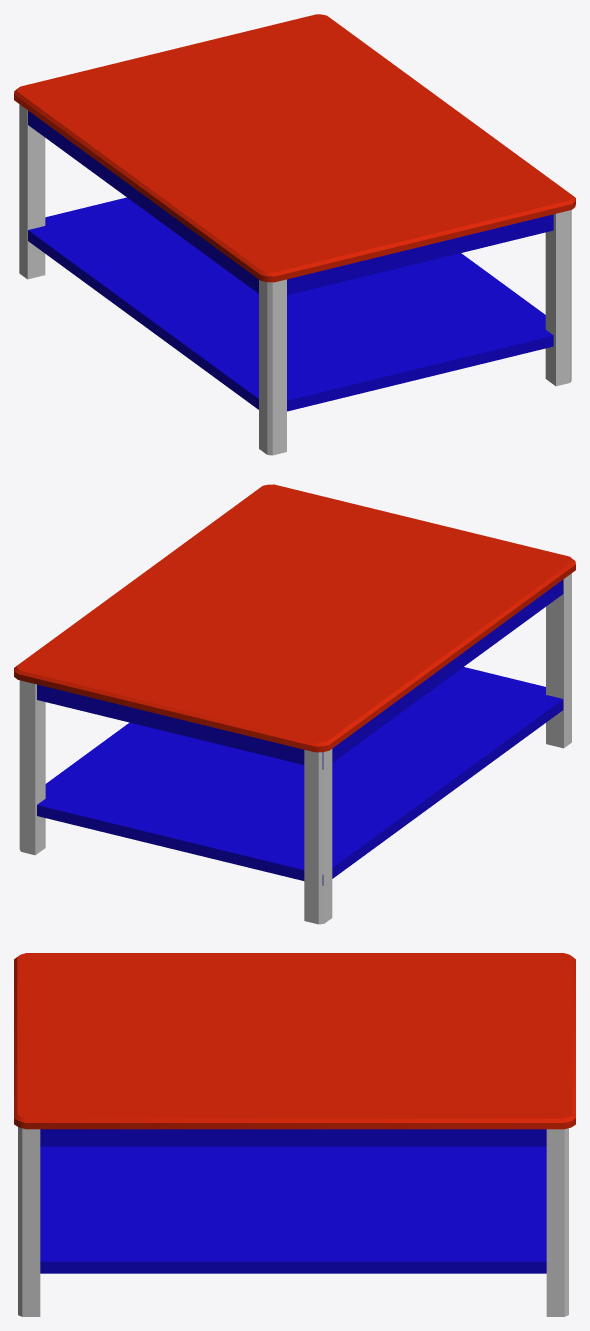
Rendered from Coffee table.fbx.
3 views of the same model, one above another, from view 1: azimuth 30°, elevation 25°; view 2: azimuth 150°, elevation 25°; view 3: azimuth 270°, elevation 25° (orthographic). The views are drawn at different scales.
Parts seen in each view (by area): view 1: Dinner Table.000; view 2: Dinner Table.000; view 3: Dinner Table.000.
Boxes of the visible parts, <box> form: Dinner Table.000: <box>14,14,575,455</box>; Dinner Table.000: <box>14,484,575,924</box>; Dinner Table.000: <box>14,953,575,1316</box>.
Bounding box in the file's own units: 80.78 × 44.8 × 114.
